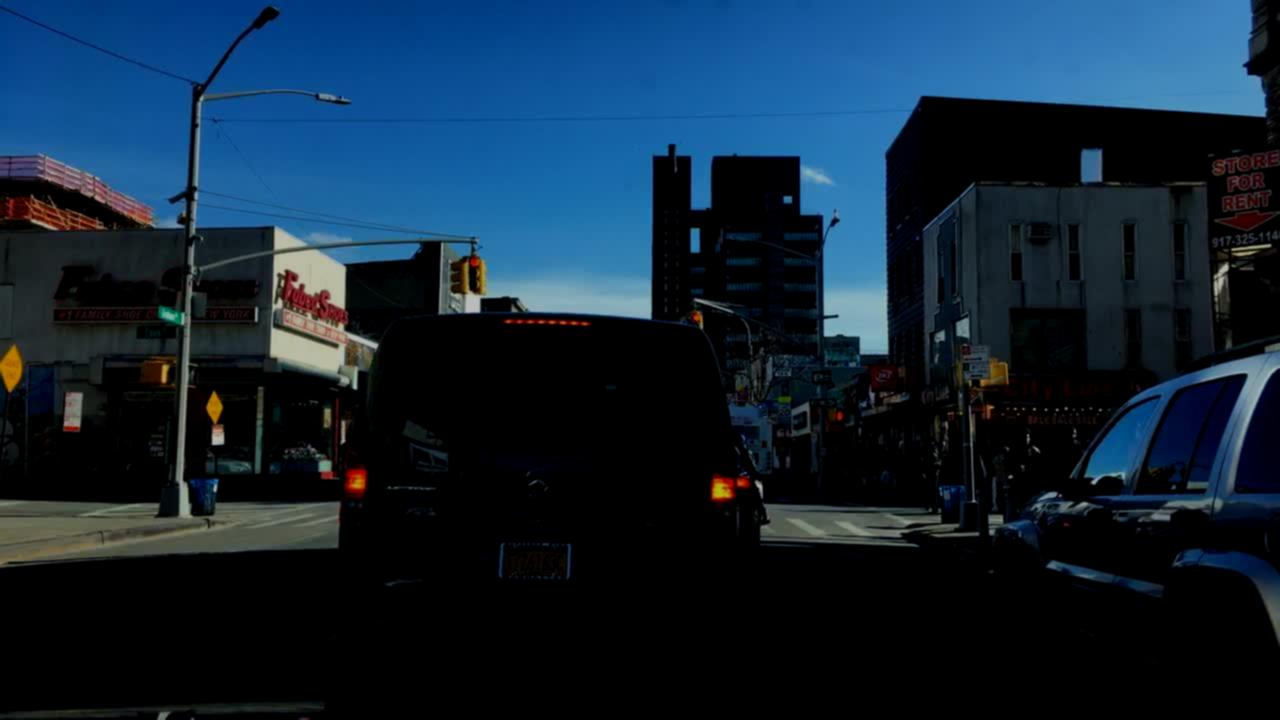Mercedes: (515, 463, 557, 502)
